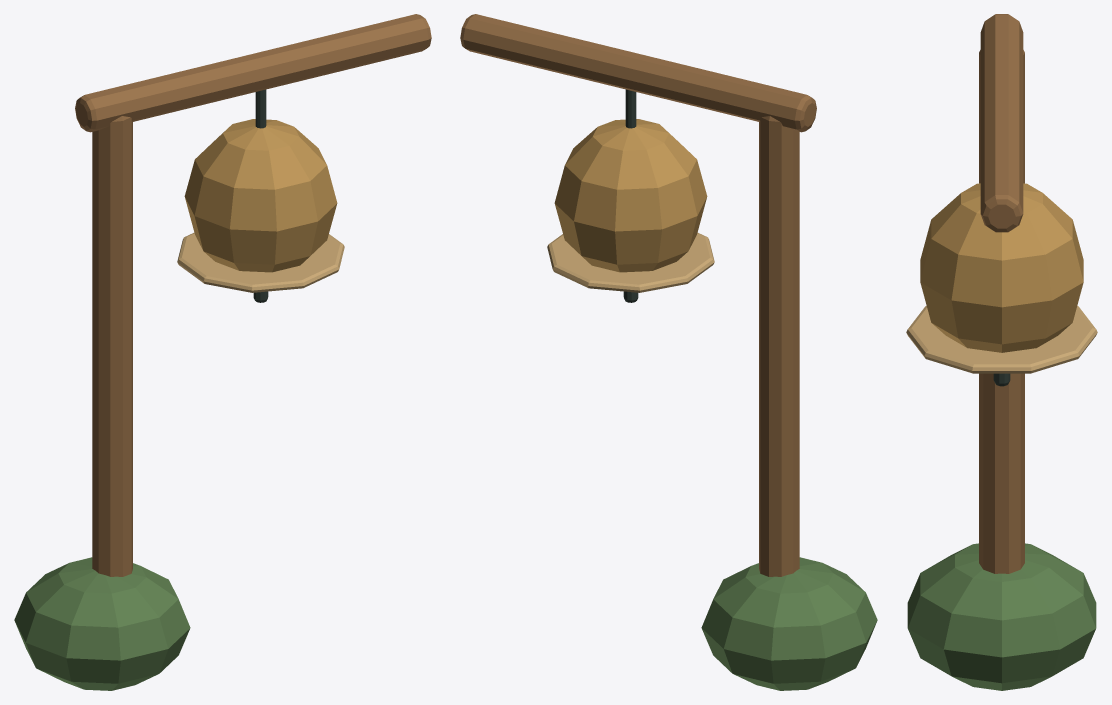
Rendered from wishing-bell.glb.
3 renders of one model, left to right at view 1: azimuth 30°, elevation 25°; view 2: azimuth 150°, elevation 25°; view 3: azimuth 270°, elevation 25°, orthographic. The views are drawn at different scales.
Parts seen in each view (by area): view 1: wishing-bell_Discovery_Mesh, discovery_Motion.008_Mesh; view 2: wishing-bell_Discovery_Mesh, discovery_Motion.008_Mesh; view 3: wishing-bell_Discovery_Mesh, discovery_Motion.008_Mesh.
Part boxes in pixels (left/top/right/bottom): wishing-bell_Discovery_Mesh: left=14, top=14, right=431, bottom=690; discovery_Motion.008_Mesh: left=177, top=89, right=344, bottom=302; wishing-bell_Discovery_Mesh: left=460, top=14, right=877, bottom=690; discovery_Motion.008_Mesh: left=547, top=89, right=714, bottom=302; wishing-bell_Discovery_Mesh: left=907, top=14, right=1096, bottom=690; discovery_Motion.008_Mesh: left=906, top=183, right=1097, bottom=386.
Bounding box in the file's own units: 1.56 × 2.19 × 0.58.
